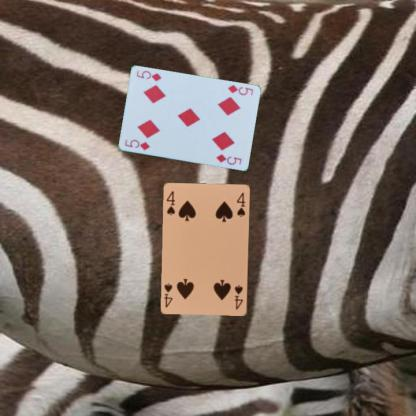4s: (164, 188, 177, 217), (232, 282, 244, 311)
5d: (224, 82, 254, 96), (122, 137, 151, 151)
